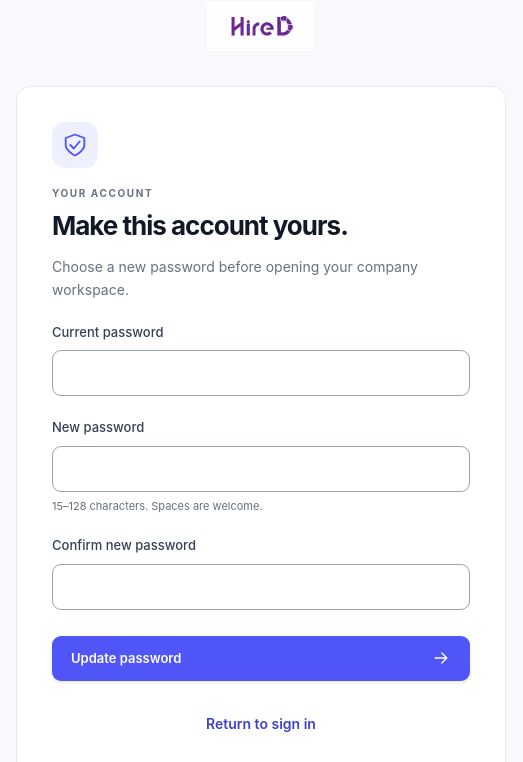
it: keeps first-login credentials local when confirmation is different
Type "Synthetic initial password" into the password field labelled "Current password" at (261, 373), box [52,350,470,396]
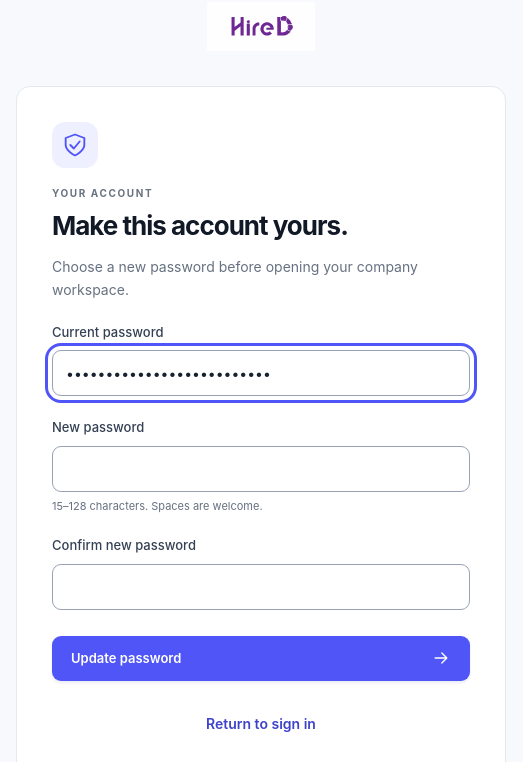
Type "Synthetic chosen password" into the password field labelled "New password" at (261, 469), box [52,446,470,492]
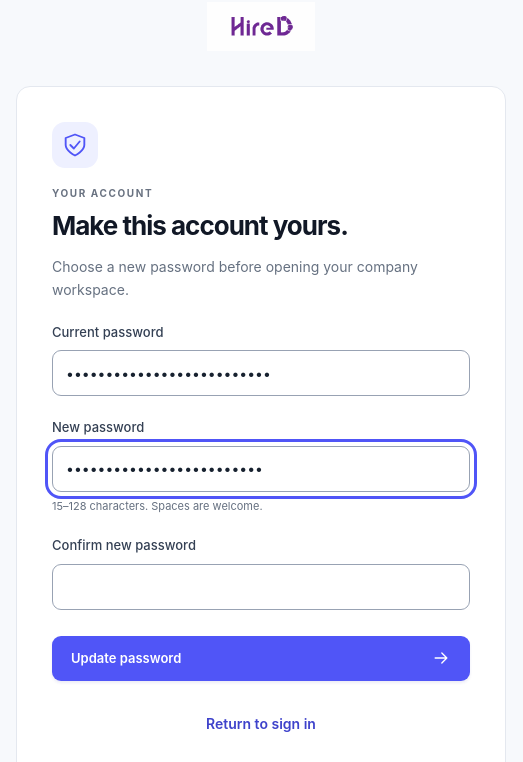
Type "Synthetic different password" into the password field labelled "Confirm new password" at (261, 587), box [52,564,470,610]
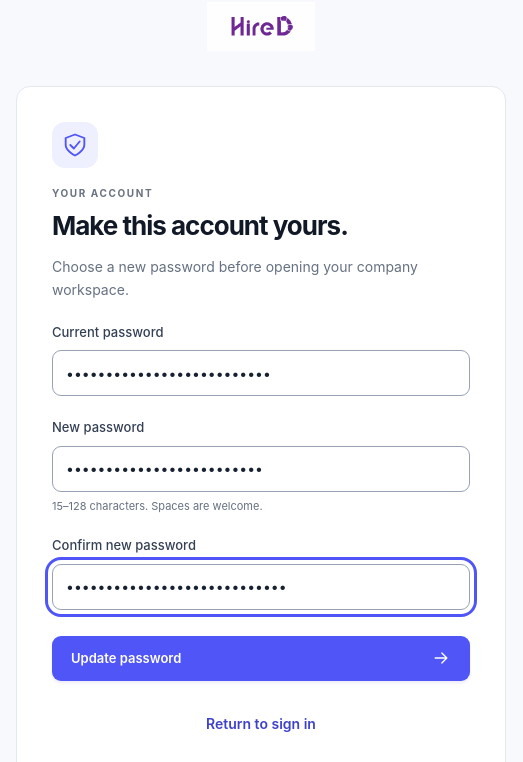
Click the button "Update password" at (126, 658), box [52,636,470,681]
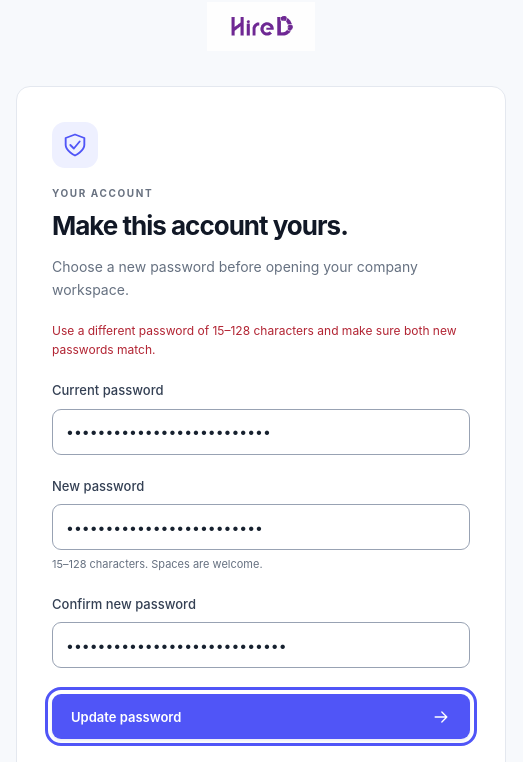
Expected: the message shows "make sure both new passwords match", [52,323,457,357]
